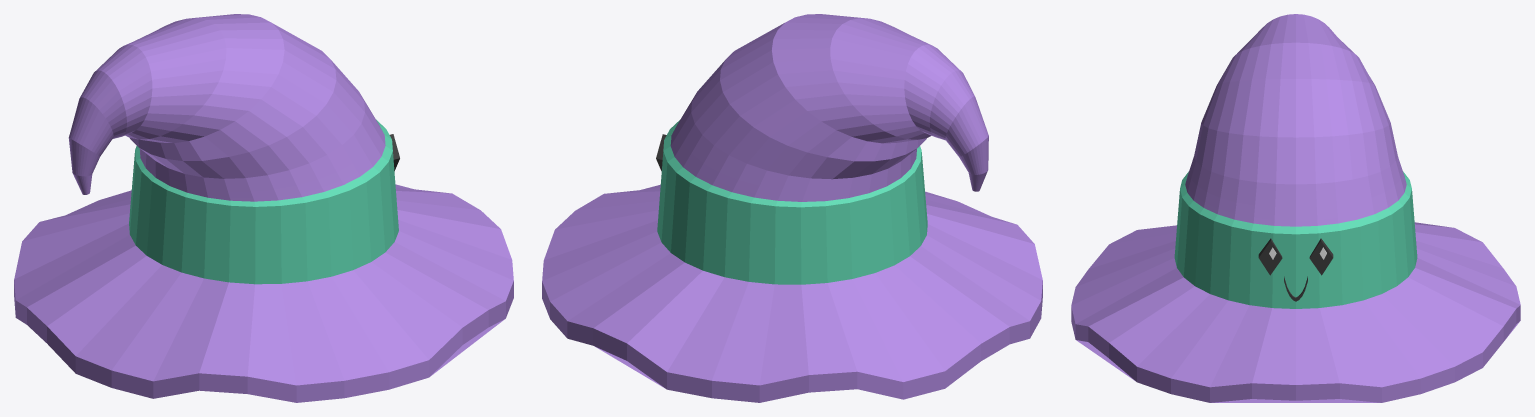
Rendered from living-witch-hat-joined.glb.
3 renders of one model, left to right at view 1: azimuth 30°, elevation 25°; view 2: azimuth 150°, elevation 25°; view 3: azimuth 270°, elevation 25°, orthographic. The views are drawn at different scales.
Parts seen in each view (by area): view 1: Cylinder; view 2: Cylinder; view 3: Cylinder.
Part boxes in pixels (x1,y1,x2,y2): Cylinder: (14,14,513,402); Cylinder: (542,14,1042,402); Cylinder: (1071,14,1520,402).
Size of the model in its own units: 3.12 by 2.01 by 3.12.
Materials: 1 (1 with a texture image).
